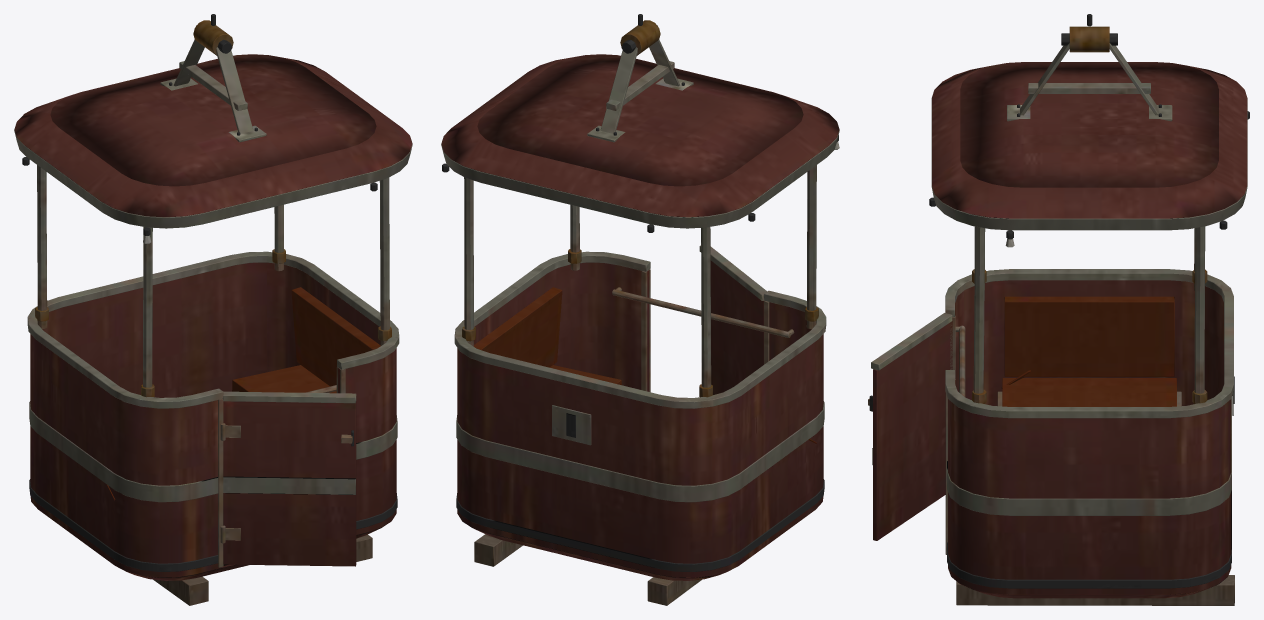
File: ferris_cabin.glb
The picture shows the model from 3 angles, left to right: view 1: azimuth 30°, elevation 25°; view 2: azimuth 150°, elevation 25°; view 3: azimuth 270°, elevation 25°; orthographic projection. The views are drawn at different scales.
Visible parts, largest first — view 1: ferris_cabin; view 2: ferris_cabin; view 3: ferris_cabin.
Part boxes in pixels (box(x1,y1,x2,y2)): ferris_cabin: box(14, 14, 412, 605); ferris_cabin: box(441, 14, 839, 605); ferris_cabin: box(868, 14, 1249, 605).
Size of the model in its own units: 1.56 by 2.54 by 1.62.
1 material, 1 textured.
